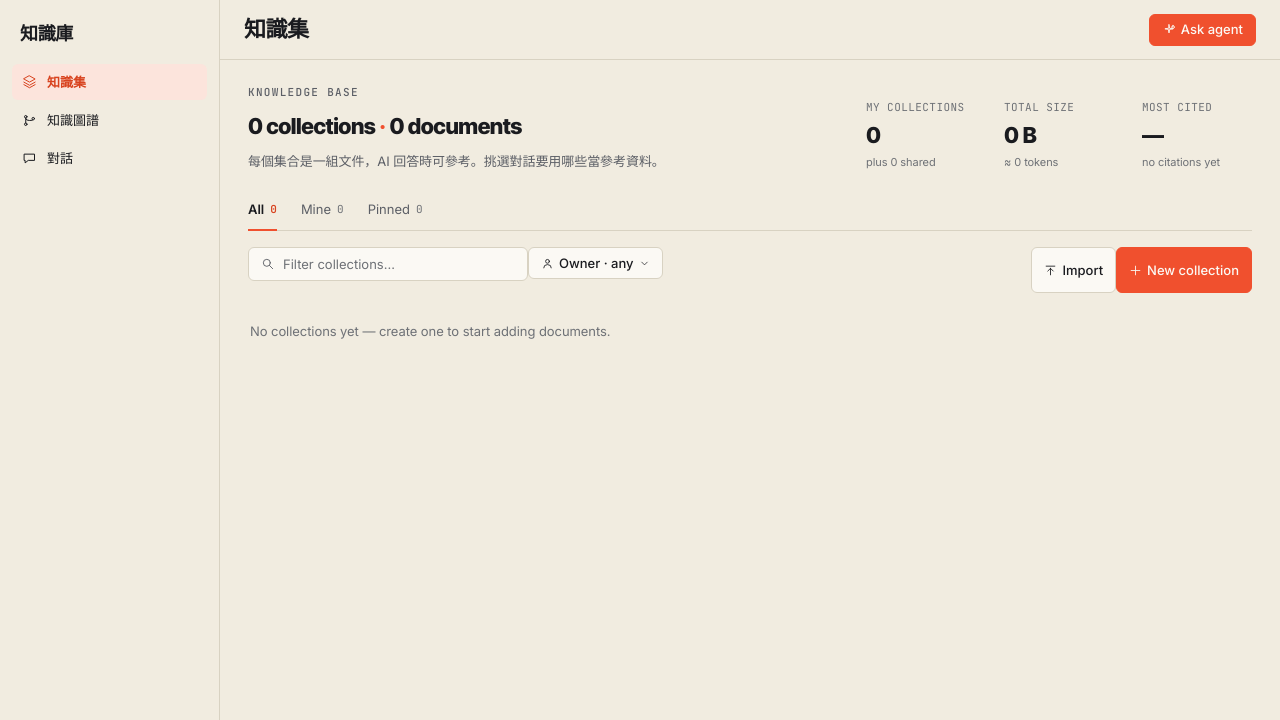
KbHome shell › shows the collections surface by default and switches to chats
The width and height of the screenshot is (1280, 720).
Check: the button "New collection" is shown, box [1116, 247, 1252, 293]
…clicking the Chats nav (i18n'd label) routes to the chats surface
Click the button "對話".
click(110, 158)  # box [12, 140, 207, 176]
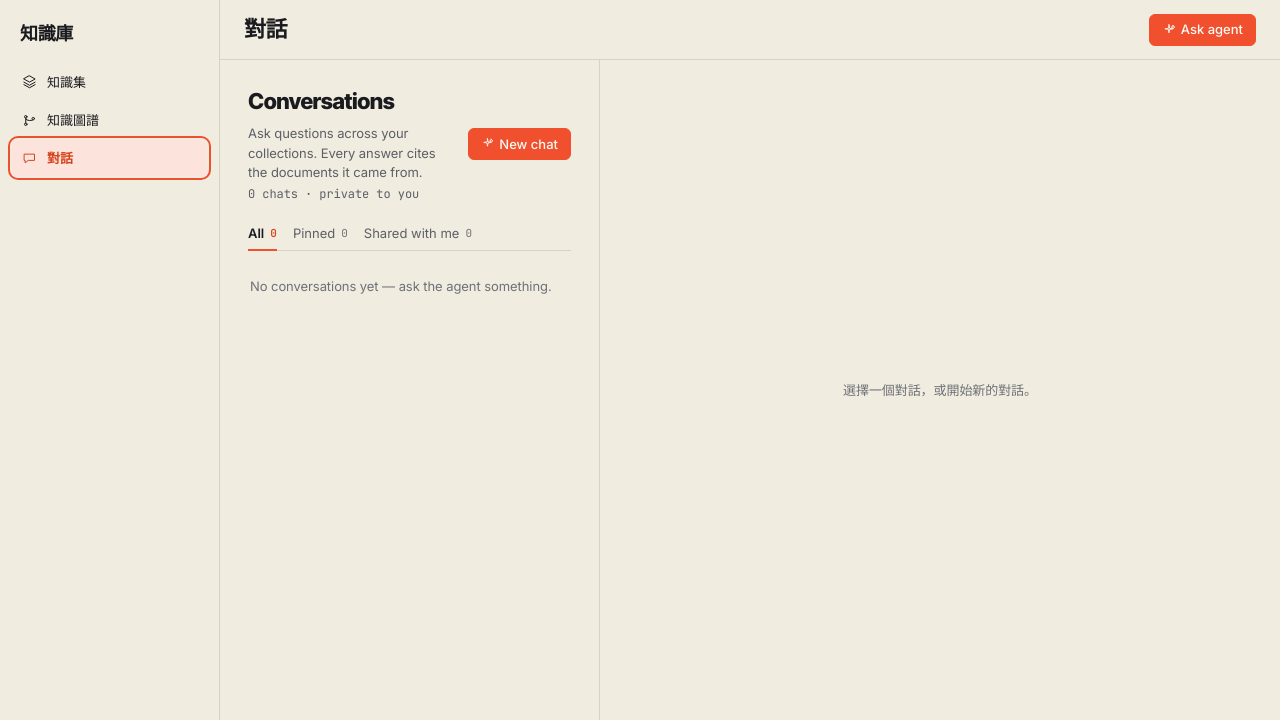
Check: the button "New chat" is shown, box [468, 128, 571, 160]
